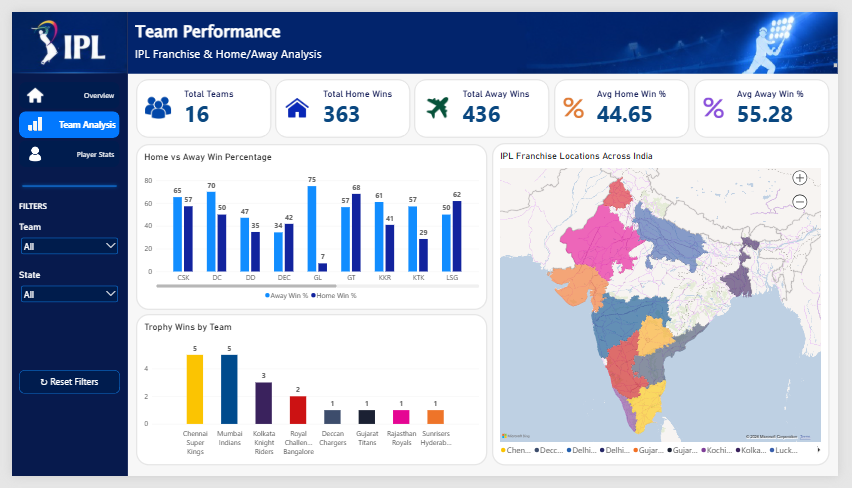

What the dashboard file says about the page in this screenshot:
{"tool":"powerbi","page":{"name":"Team Analysis","canvas":[1920,1080],"ordinal":1},"visuals":[{"type":"group","id":"g1","title":"Group 1","box":[0,0,1919.4,1081],"z":0},{"type":"shape","box":[0.6,0,269,1081],"z":0,"group":"g2"},{"type":"image","box":[269.4,0,1650,143.4],"z":0,"group":"g1"},{"type":"shape","box":[0,0,269,1081],"z":1000,"group":"g1"},{"type":"image","box":[270,0,1650,143.4],"z":1000,"group":"g2"},{"type":"cardVisual","fields":{"Data":["TeamPerformance.Total Teams"]},"box":[287.7,156.9,315.4,136.9],"z":1000},{"type":"image","box":[0.6,0,268.6,142.9],"z":2000,"group":"g2"},{"type":"cardVisual","fields":{"Data":["TeamPerformance.Total Home Wins"]},"box":[610.8,155.4,315.4,136.9],"z":2000},{"type":"cardVisual","fields":{"Data":["TeamPerformance.Total Away Wins"]},"box":[935.4,155.4,315.4,136.9],"z":3000},{"type":"cardVisual","fields":{"Data":["TeamPerformance.Avg Home Win %"]},"box":[1261.5,156.9,315.4,136.9],"z":4000},{"type":"pageNavigator","box":[17.7,162.9,234.3,198.6],"z":4000,"group":"g2"},{"type":"cardVisual","fields":{"Data":["TeamPerformance.Avg Away Win %"]},"box":[1586.2,156.9,315.4,136.9],"z":5000},{"type":"slicer","title":"State","fields":{"Values":["TeamPerformance.State"]},"box":[17.9,598.3,235.4,88.6],"z":5000,"group":"g2"},{"type":"clusteredColumnChart","title":"Home vs Away Win Percentage","fields":{"Category":["TeamPerformance.Short_Name"],"Y":["TeamPerformance.Away Win %","TeamPerformance.Home Win %"]},"box":[288.2,306.6,817.1,385.5],"z":6000},{"type":"actionButton","box":[17.3,833.3,235,55],"z":6000,"group":"g2"},{"type":"filledMap","title":"IPL Franchise Locations Across India","fields":{"Category":["TeamPerformance.State"],"Series":["TeamPerformance.team"]},"box":[1117.3,305.8,784.6,750],"z":7000},{"type":"shape","box":[17.3,391.7,235,28.3],"z":7000,"group":"g2"},{"type":"textbox","box":[17.3,436.7,73.3,30],"z":8000,"group":"g2"},{"type":"columnChart","title":"Trophy Wins by Team","fields":{"Category":["TeamPerformance.team"],"Y":["Sum(TeamPerformance.Trophy_Winner)"]},"box":[288.3,703.3,816.7,351.7],"z":8000},{"type":"textbox","title":"Team Performance","box":[286.6,17.3,1633,112.3],"z":9000,"group":"g2"},{"type":"slicer","title":"State","fields":{"Values":["TeamPerformance.State"]},"box":[17.3,598.3,235.4,88.6],"z":9000},{"type":"group","id":"g2","title":"Group 1","box":[0.6,0,1919.4,1081],"z":10000},{"type":"slicer","title":"Team","fields":{"Values":["TeamPerformance.team"]},"box":[15.1,486,235.4,88.6],"z":11000},{"type":"group","id":"g3","title":"Group 2","box":[31.8,174.9,43.8,175.1],"z":12000},{"type":"image","box":[32.7,174.9,42.9,37.1],"z":12000,"group":"g3"},{"type":"image","box":[32.7,242.8,42.9,37.1],"z":13000,"group":"g3"},{"type":"image","box":[31.8,312.8,42.7,37.3],"z":14000,"group":"g3"},{"type":"textbox","title":"IPL Cricket Performance Intelligence","box":[287.3,17.3,905,112.3],"z":19500,"group":"g1"},{"type":"image","box":[0,0,268.6,142.9],"z":20000,"group":"g1"},{"type":"pageNavigator","box":[17.1,162.9,234.3,198.6],"z":20500,"group":"g1"},{"type":"slicer","title":"State","fields":{"Values":["TeamPerformance.State"]},"box":[17.3,598.3,235.4,88.6],"z":21000,"group":"g1"},{"type":"actionButton","box":[16.7,833.3,235,55],"z":21500,"group":"g1"},{"type":"shape","box":[16.7,391.7,235,28.3],"z":22000,"group":"g1"},{"type":"textbox","box":[16.7,436.7,73.3,30],"z":22500,"group":"g1"}]}

Visuals, with their boxes on the page's 1920x1080 design canvas (x1, y1, x2, y2). These are canvas units, not pixel positions in the 852x488 screenshot, which may show the page scaled, cropped or inside an application window:
"Group 1" group: left=0, top=0, right=1919, bottom=1081
shape: left=1, top=0, right=270, bottom=1081
image: left=269, top=0, right=1919, bottom=143
shape: left=0, top=0, right=269, bottom=1081
image: left=270, top=0, right=1920, bottom=143
cardVisual - TeamPerformance.Total Teams: left=288, top=157, right=603, bottom=294
image: left=1, top=0, right=269, bottom=143
cardVisual - TeamPerformance.Total Home Wins: left=611, top=155, right=926, bottom=292
cardVisual - TeamPerformance.Total Away Wins: left=935, top=155, right=1251, bottom=292
cardVisual - TeamPerformance.Avg Home Win %: left=1262, top=157, right=1577, bottom=294
pageNavigator: left=18, top=163, right=252, bottom=362
cardVisual - TeamPerformance.Avg Away Win %: left=1586, top=157, right=1902, bottom=294
"State" slicer: left=18, top=598, right=253, bottom=687
"Home vs Away Win Percentage" clusteredColumnChart: left=288, top=307, right=1105, bottom=692
actionButton: left=17, top=833, right=252, bottom=888
"IPL Franchise Locations Across India" filledMap: left=1117, top=306, right=1902, bottom=1056
shape: left=17, top=392, right=252, bottom=420
textbox: left=17, top=437, right=91, bottom=467
"Trophy Wins by Team" columnChart: left=288, top=703, right=1105, bottom=1055
"Team Performance" textbox: left=287, top=17, right=1920, bottom=130
"State" slicer: left=17, top=598, right=253, bottom=687
"Group 1" group: left=1, top=0, right=1920, bottom=1081
"Team" slicer: left=15, top=486, right=250, bottom=575
"Group 2" group: left=32, top=175, right=76, bottom=350
image: left=33, top=175, right=76, bottom=212
image: left=33, top=243, right=76, bottom=280
image: left=32, top=313, right=74, bottom=350
"IPL Cricket Performance Intelligence" textbox: left=287, top=17, right=1192, bottom=130
image: left=0, top=0, right=269, bottom=143
pageNavigator: left=17, top=163, right=251, bottom=362
"State" slicer: left=17, top=598, right=253, bottom=687
actionButton: left=17, top=833, right=252, bottom=888
shape: left=17, top=392, right=252, bottom=420
textbox: left=17, top=437, right=90, bottom=467
